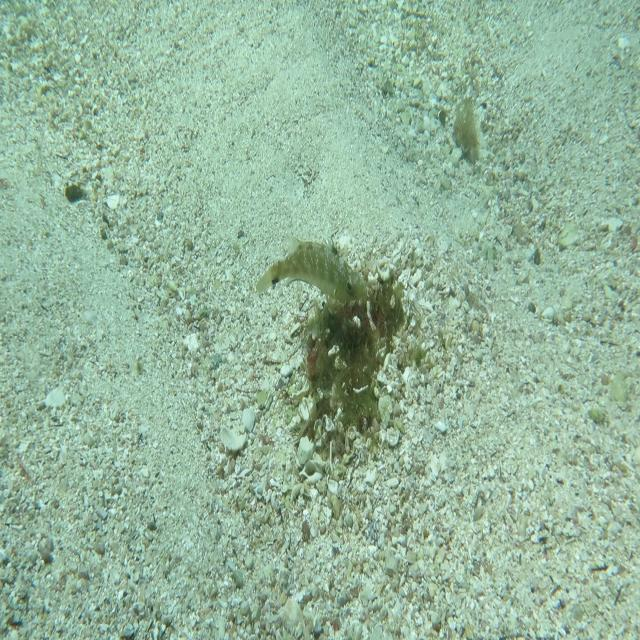FAN: (255, 231, 370, 305)
core_nest: (356, 295, 396, 333)
nest: (288, 259, 417, 471)
vegetation: (452, 97, 483, 167), (63, 182, 88, 204)
